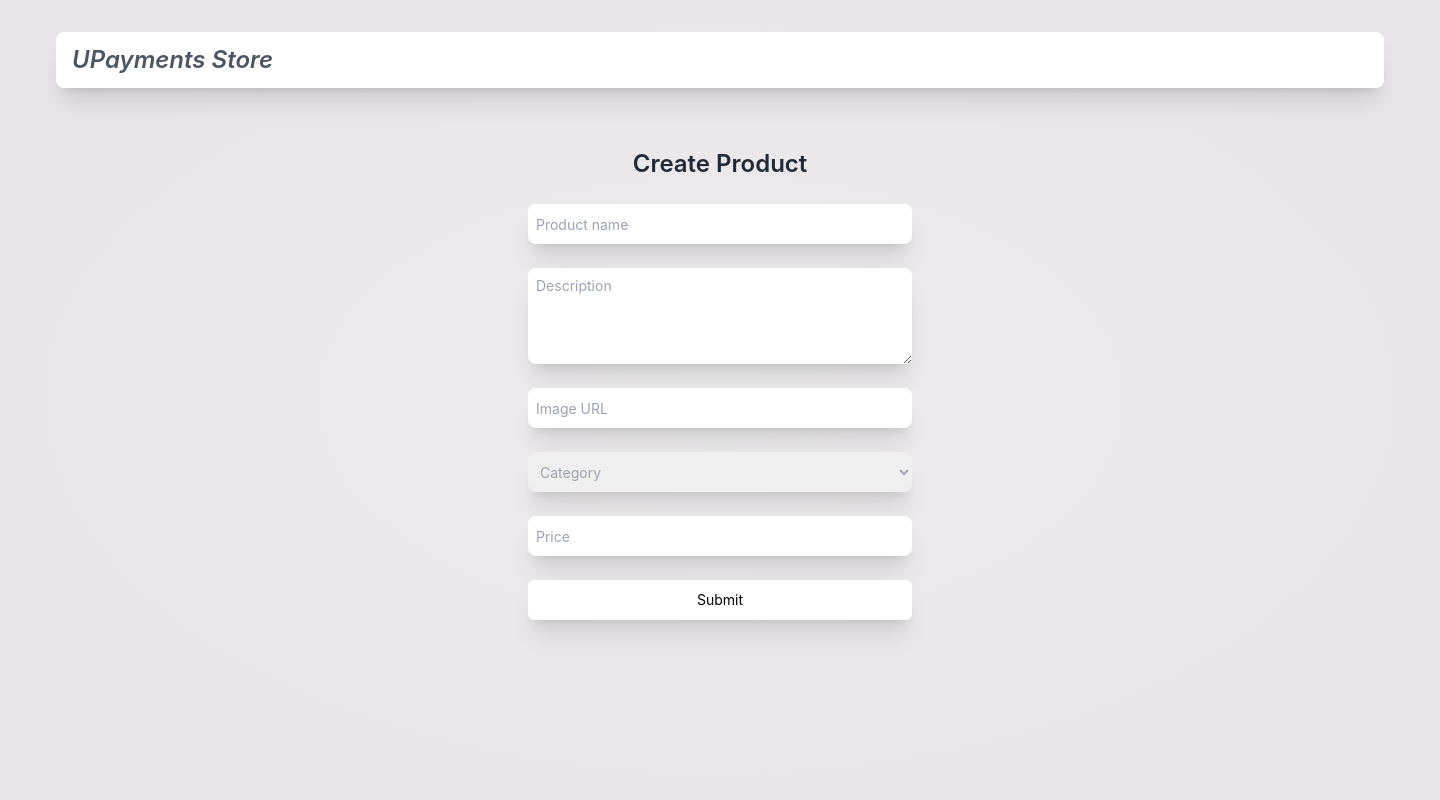
it: Create Product Page › should create new product and return /products
The width and height of the screenshot is (1440, 800).
Type "Test case description" into the text box with test id "description-input" at (720, 316), box [528, 268, 912, 364]
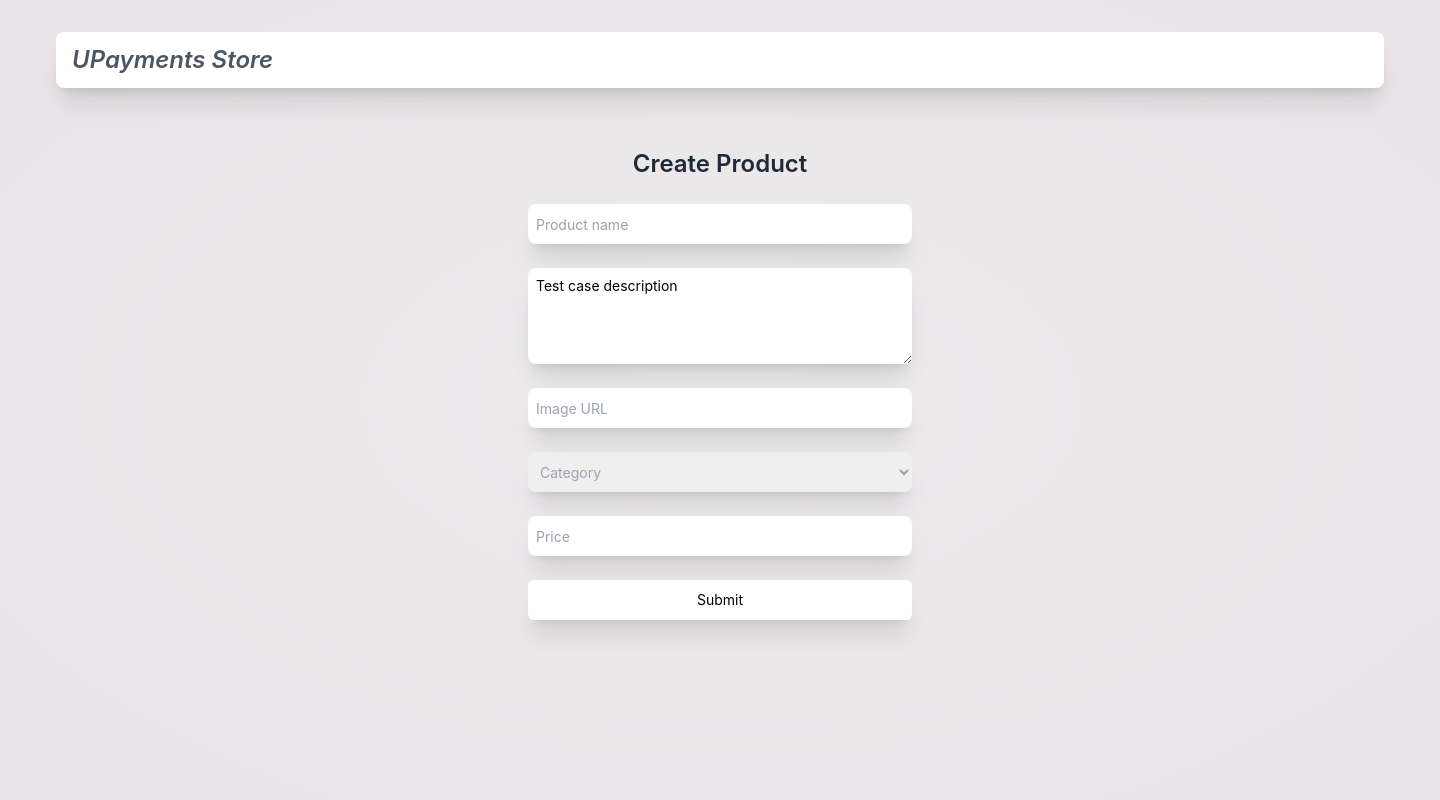
Type "Laptop" into the field with test id "name-input" at (720, 224), box [528, 204, 912, 244]
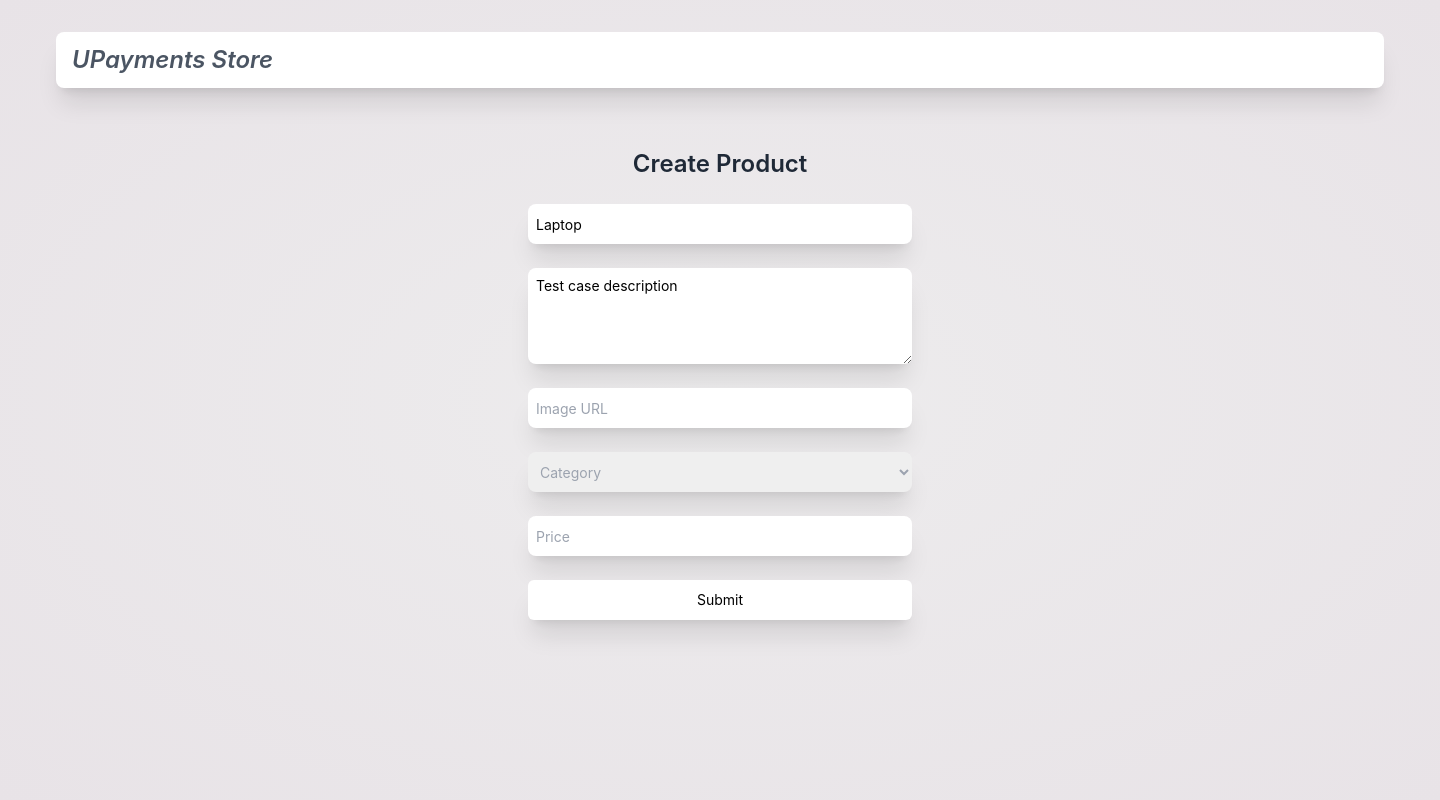
Select "Electronic" in the dropdown with test id "category-input" at (720, 472), box [528, 452, 912, 492]
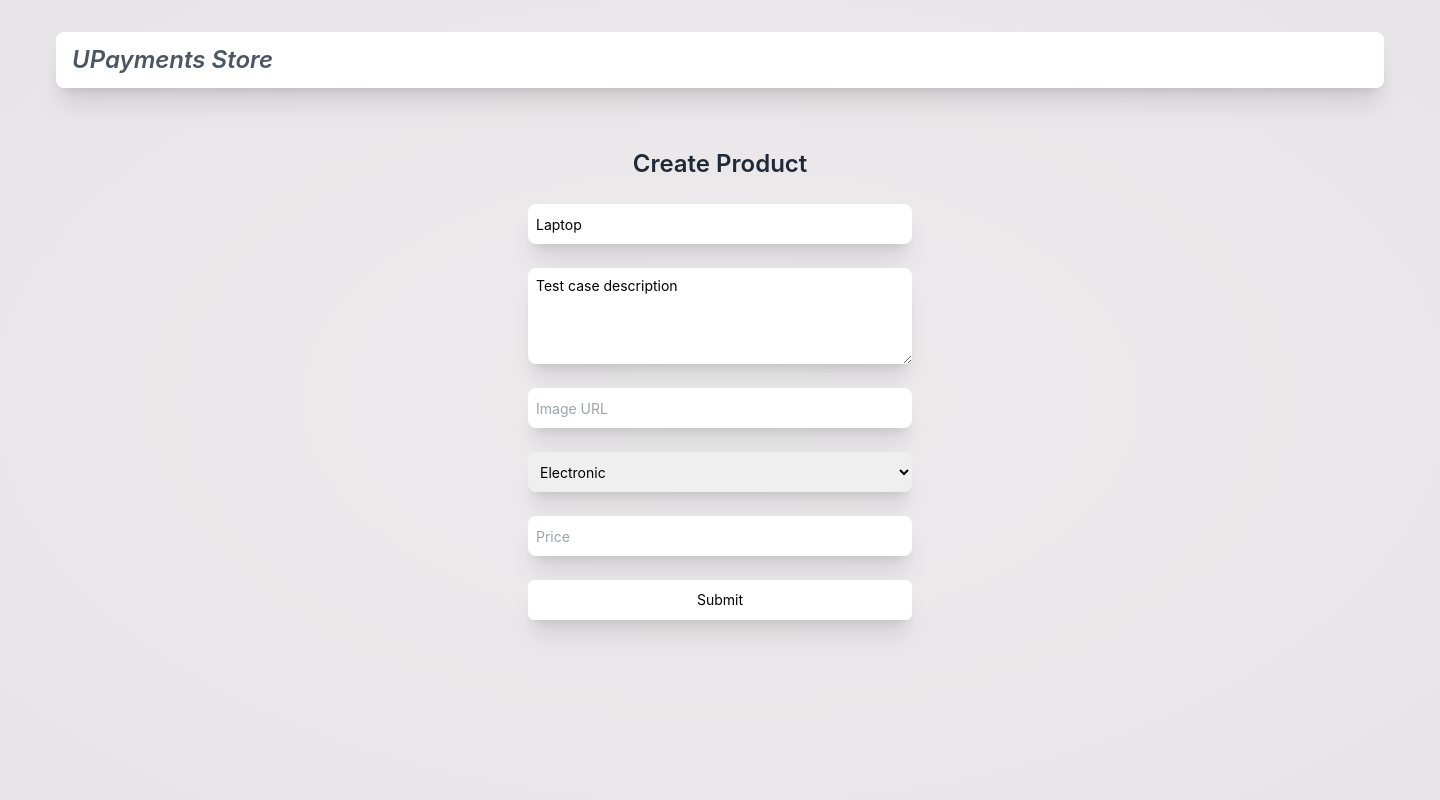
Type "https://snipstock.com/image/laptop-2746336-960-720-png-54021?download=medium" into the field with test id "avatar-input" at (720, 408), box [528, 388, 912, 428]
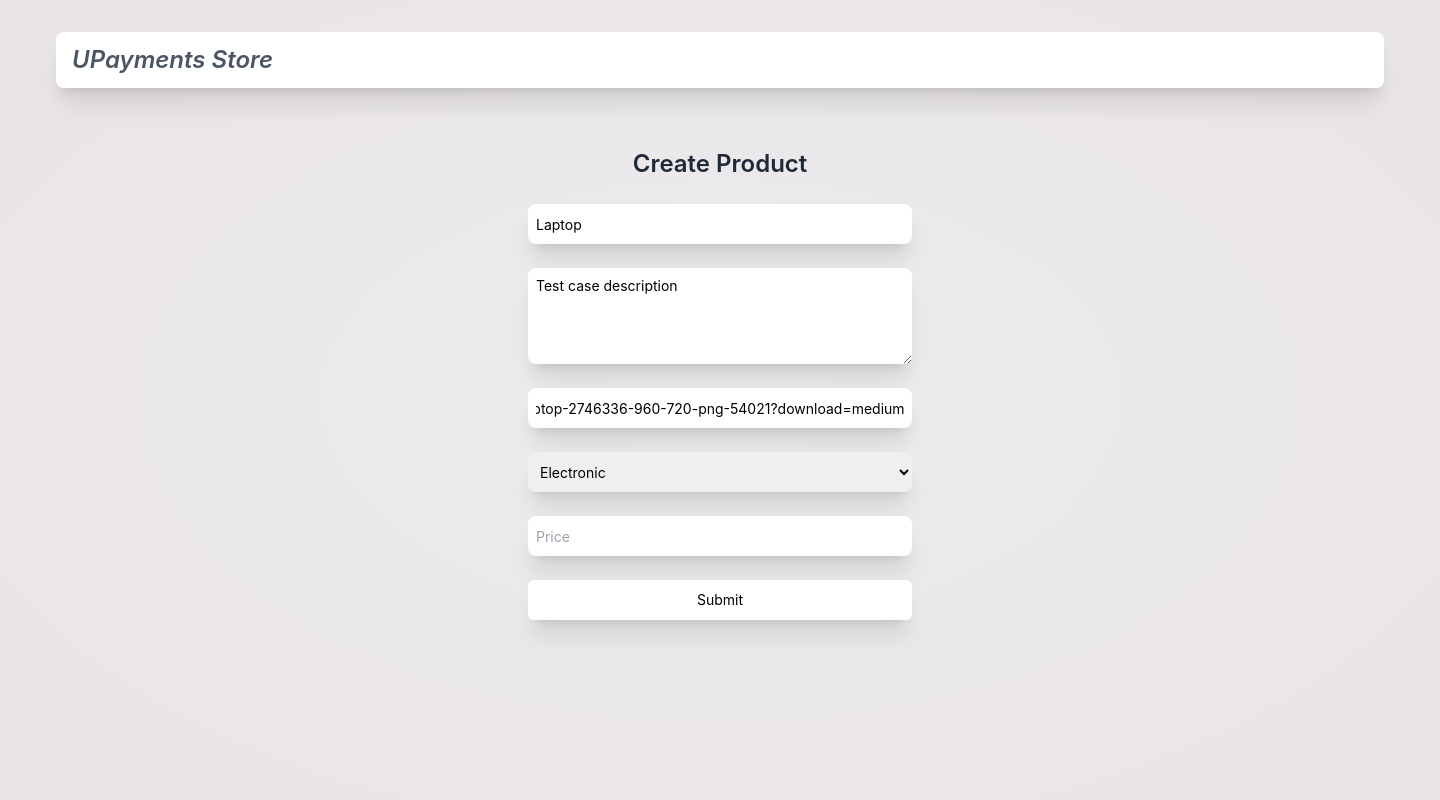
Type "1500" into the field with test id "price-input" at (720, 536), box [528, 516, 912, 556]
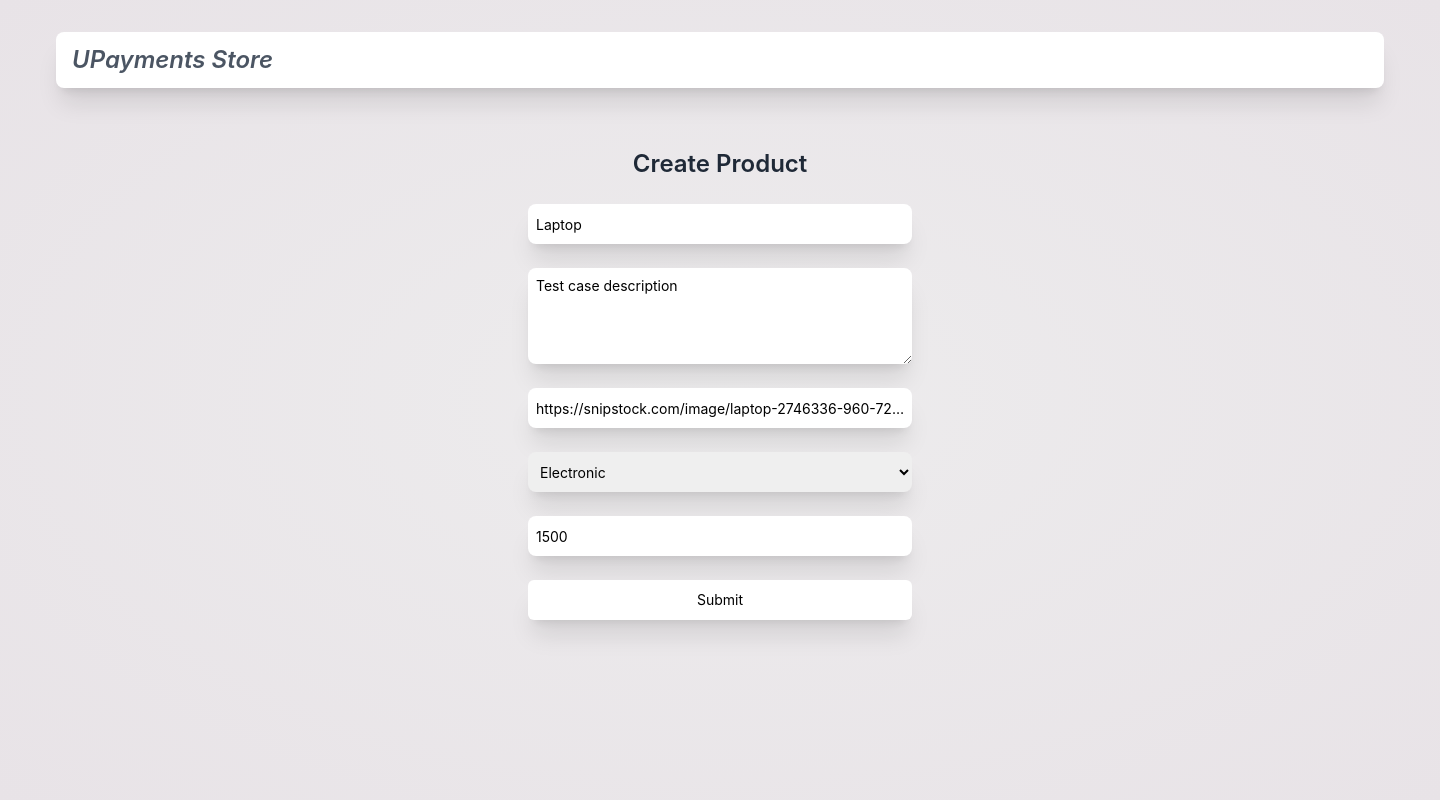
Click the button "Submit" at (720, 600), box [528, 580, 912, 620]
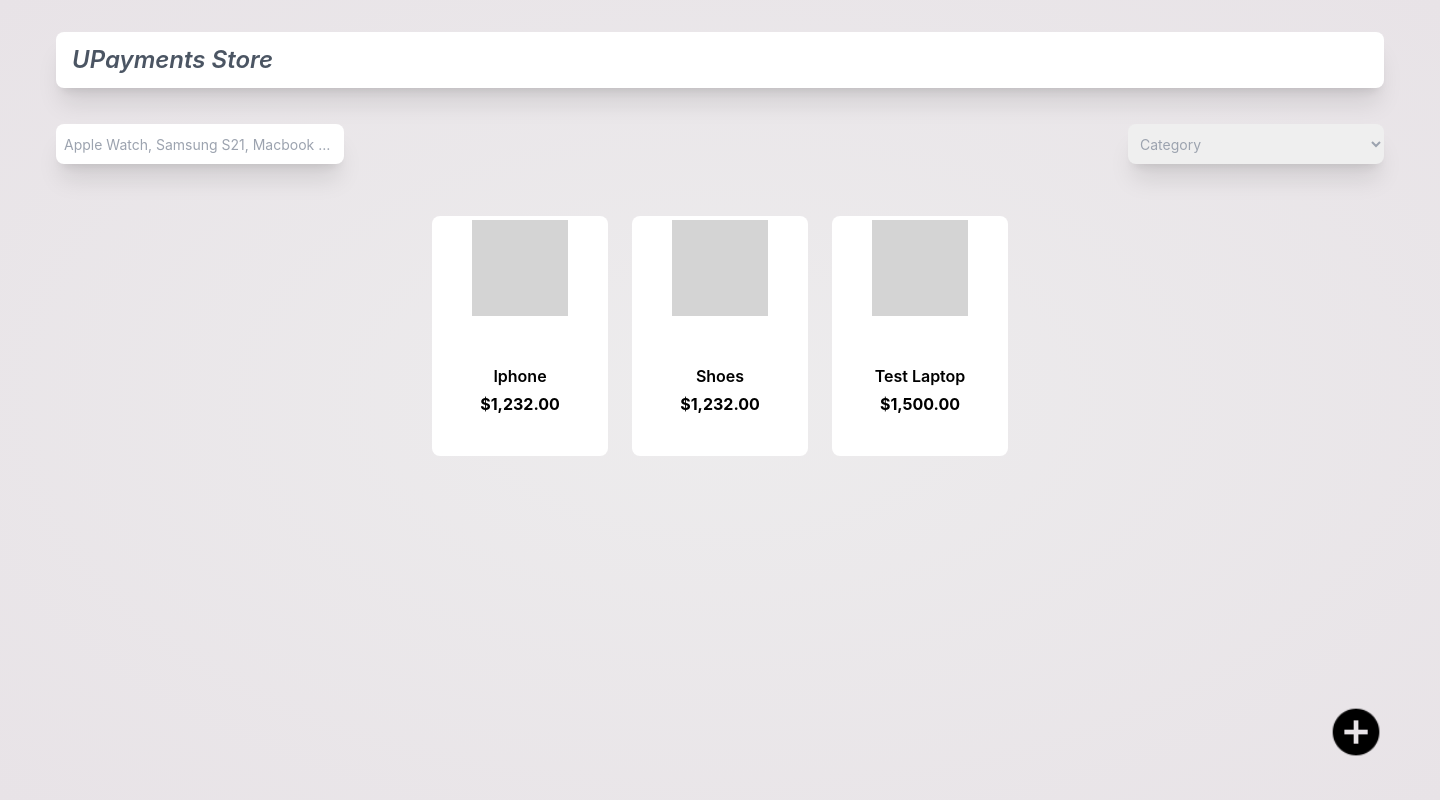
Expected: the text "Test Laptop" is shown, [875, 366, 965, 386]
